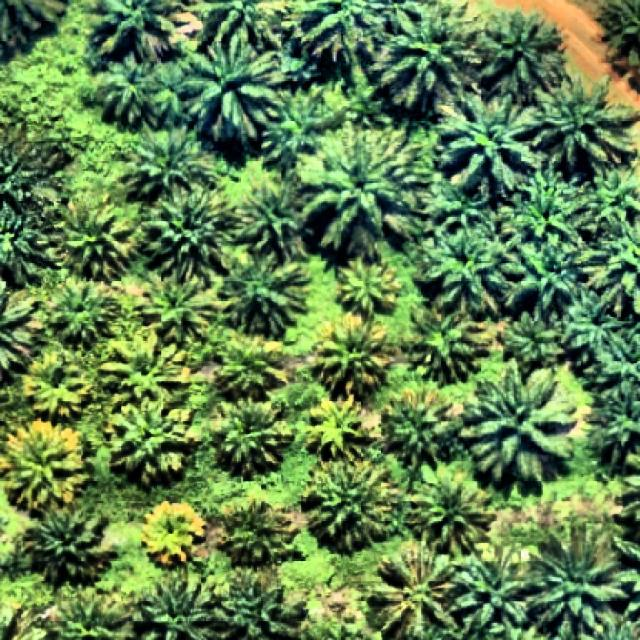Kelapa_Sawit: (300, 120, 422, 246), (462, 364, 580, 492), (178, 29, 296, 149), (518, 68, 638, 176), (524, 521, 630, 640), (364, 7, 480, 115), (437, 86, 545, 196), (138, 180, 236, 288), (416, 224, 521, 324), (449, 541, 546, 640), (104, 396, 201, 492), (2, 416, 92, 518), (498, 165, 594, 258), (100, 322, 194, 416), (216, 245, 310, 338), (368, 549, 464, 640), (305, 460, 393, 558), (484, 1, 570, 97), (48, 194, 137, 286), (121, 121, 222, 202), (308, 312, 394, 406), (138, 262, 236, 344), (411, 469, 497, 560), (263, 88, 345, 182), (25, 506, 118, 588), (504, 236, 592, 322), (377, 386, 463, 472), (235, 170, 312, 264), (216, 483, 302, 566), (215, 394, 292, 483), (98, 46, 177, 132), (408, 308, 490, 384), (214, 328, 291, 404), (23, 348, 96, 422), (51, 274, 120, 352), (501, 304, 568, 376), (142, 497, 206, 572), (335, 252, 403, 320), (306, 398, 374, 466)
